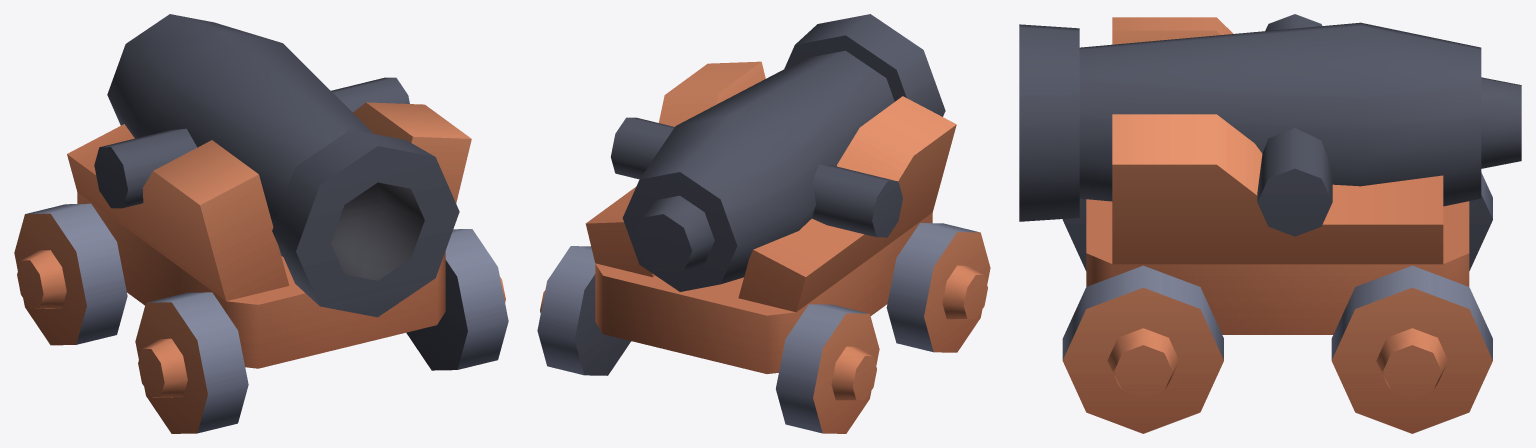
File: cannon-mobile.gltf
3 renders of one model, left to right at view 1: azimuth 30°, elevation 25°; view 2: azimuth 150°, elevation 25°; view 3: azimuth 270°, elevation 25°, orthographic. The views are drawn at different scales.
Parts seen in each view (by area): view 1: cannon-mobile, Group, Group_1; view 2: cannon-mobile, Group, Group_1; view 3: cannon-mobile, Group_1, Group.
Part boxes in pixels (<box>): cannon-mobile: <box>14,14,508,433</box>; Group: <box>67,124,289,301</box>; Group_1: <box>353,102,471,203</box>; cannon-mobile: <box>537,14,990,433</box>; Group: <box>738,96,956,312</box>; Group_1: <box>585,61,765,277</box>; cannon-mobile: <box>1019,14,1521,433</box>; Group_1: <box>1112,114,1443,264</box>; Group: <box>1112,17,1233,44</box>.
Size of the model in its own units: 1.68 by 1.38 by 1.92.
Materials: 1 (1 with a texture image).
